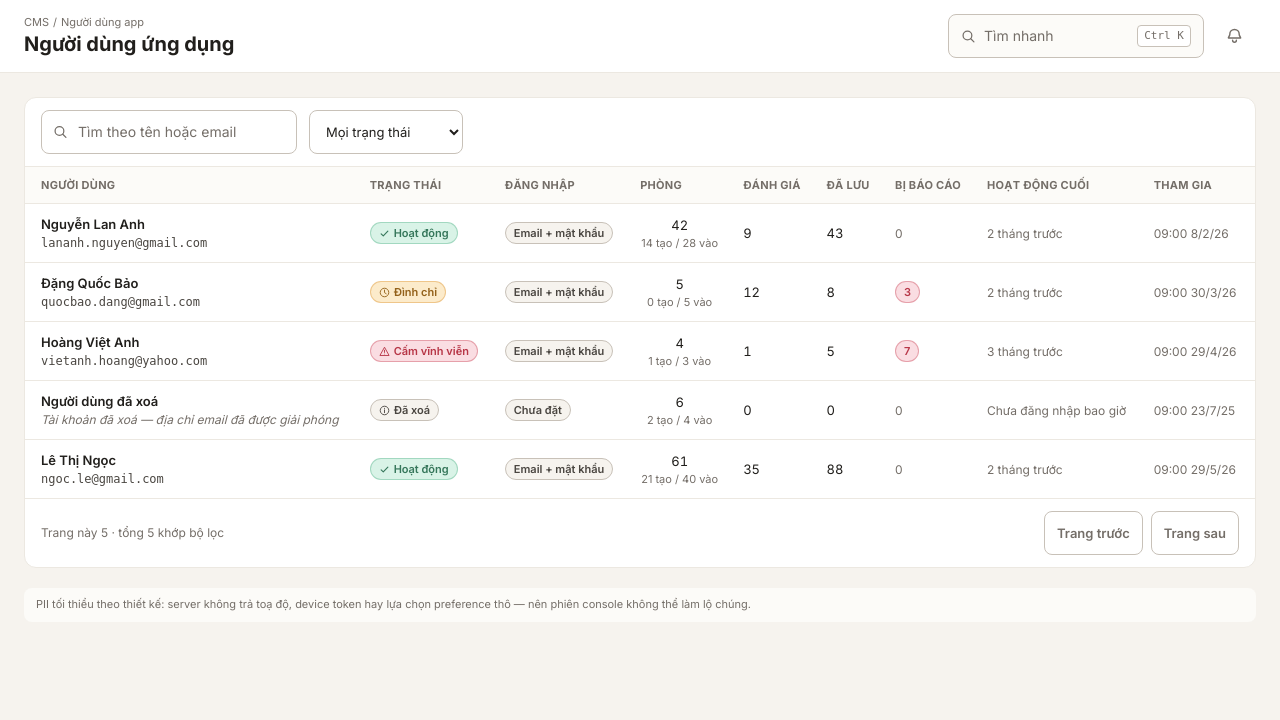
Test: secure export — direct user export (GoGo-BE#256) › shows the 202 export facts and never downloads or renders a payload
Click the text "Nguyễn Lan Anh". click: (93, 224)
box: [41,216,145,232]
(page scrolled)
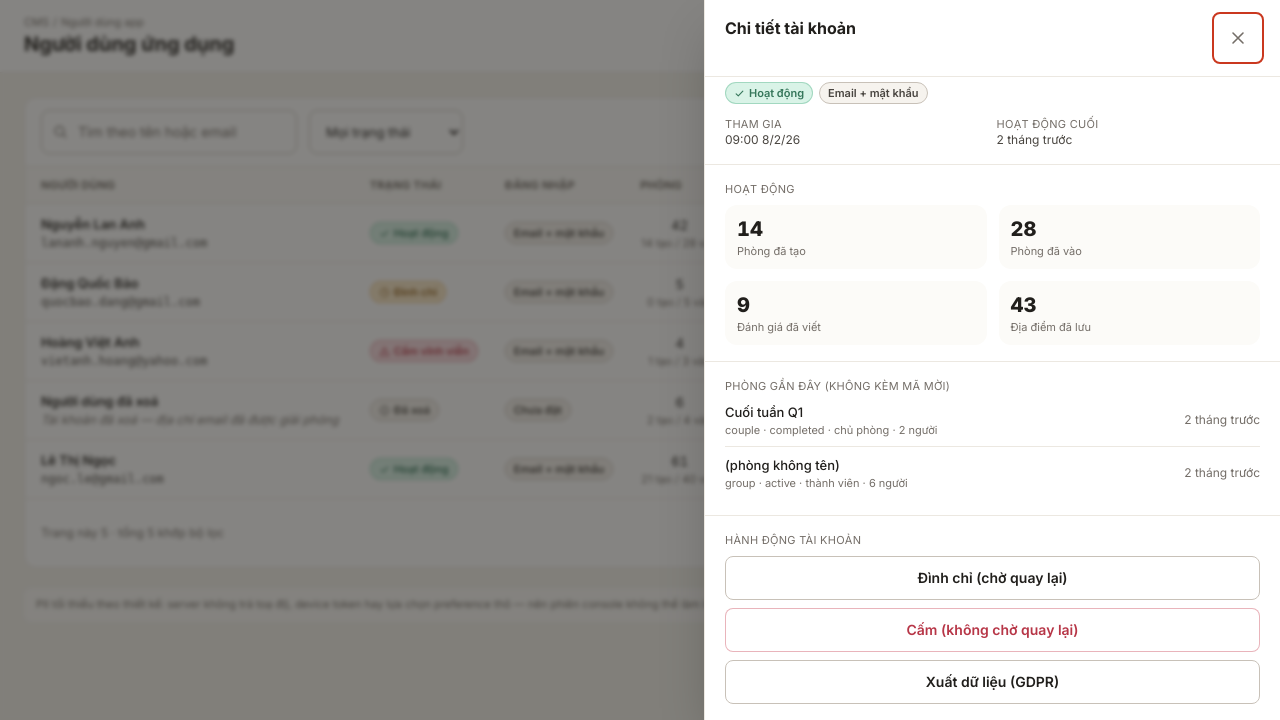
Click the button "Xuất dữ liệu (GDPR)". click: (992, 682)
box: [725,660,1260,704]
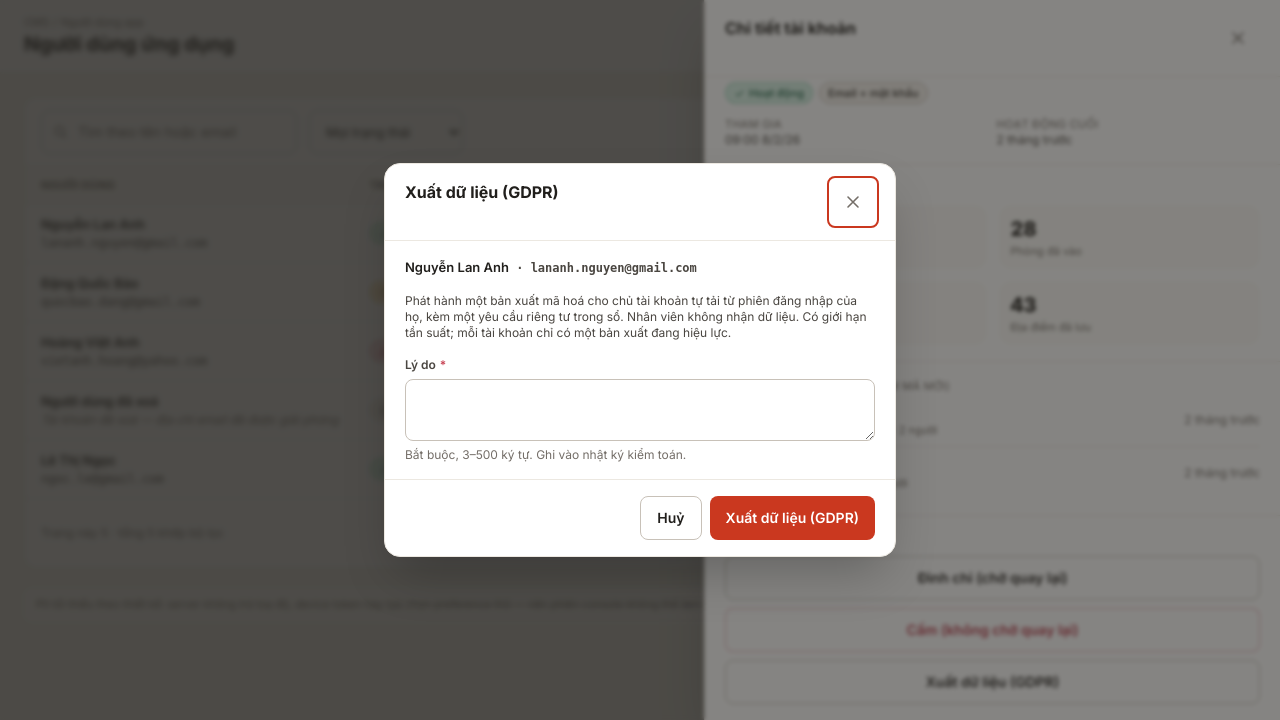
Type "SUP-2001 yêu cầu bản sao" into the text box labelled "Lý do*". click: (640, 410)
box: [405,379,875,441]
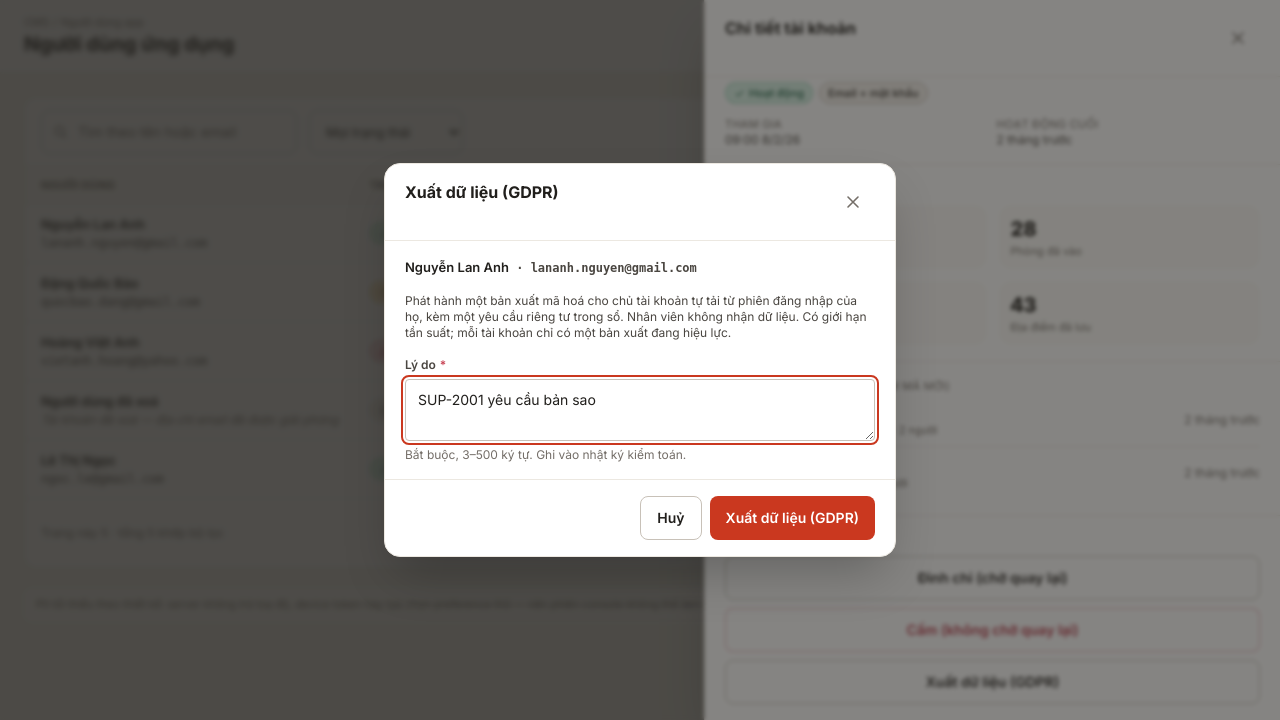
Click the button "Xuất dữ liệu (GDPR)". click: (792, 518)
box: [710,496,875,540]
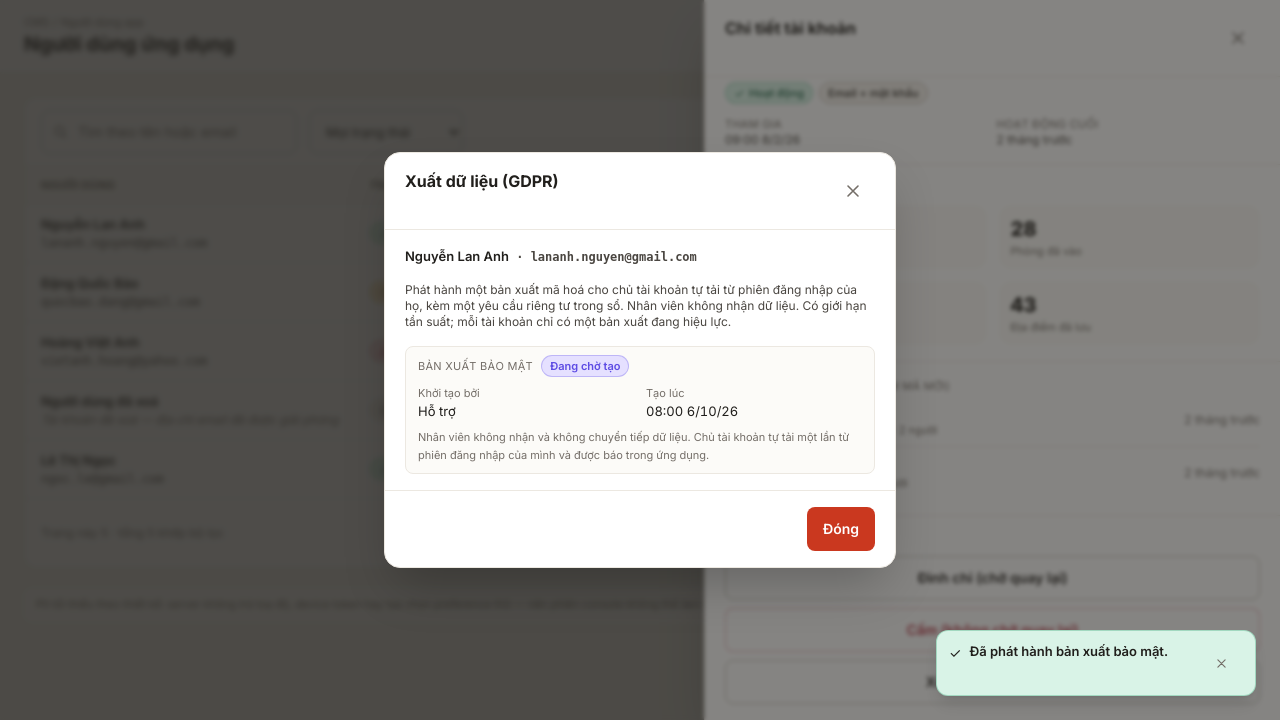
Check: the text "Đang chờ tạo" is shown, box [541,355,630,377]
Check: the text "Nhân viên không nhận và không chuyển tiếp" is shown, box [418,430,849,462]
